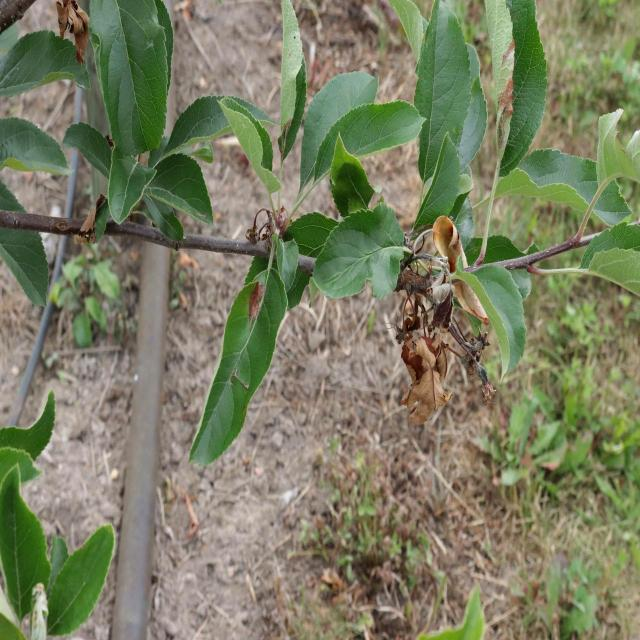-FireBlight-: (402, 234, 498, 422)
